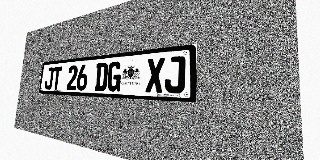2: (67, 65, 78, 90)
6: (76, 64, 89, 91)
D: (94, 62, 108, 91)
G: (107, 61, 122, 92)
J: (164, 55, 186, 93), (44, 67, 54, 90)
T: (52, 66, 62, 90)
X: (145, 57, 165, 93)
